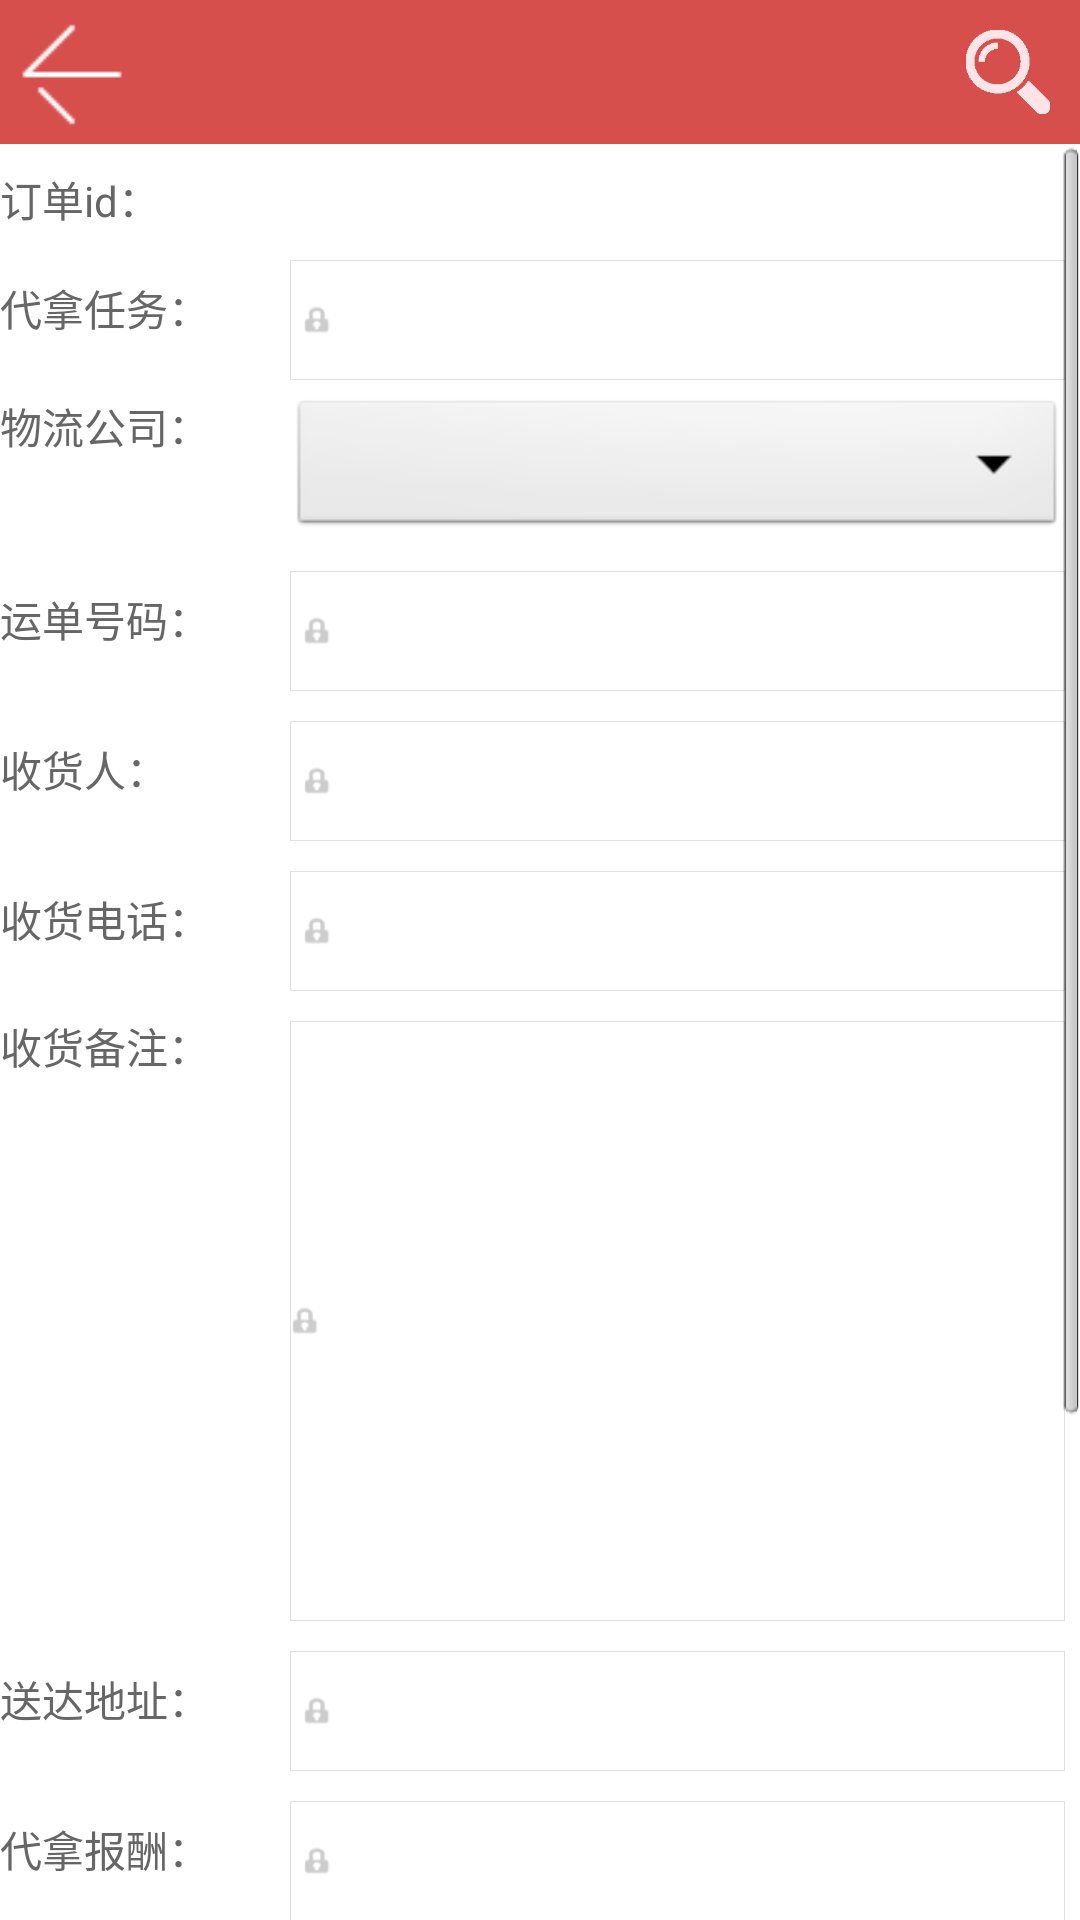

Icons on this 1080x1920 Android screen, each with its box as {"x1": x1, "y1": y1, "x2": x2, "y2": y2}:
left: {"x1": 22, "y1": 25, "x2": 122, "y2": 125}
search: {"x1": 966, "y1": 30, "x2": 1050, "y2": 114}
